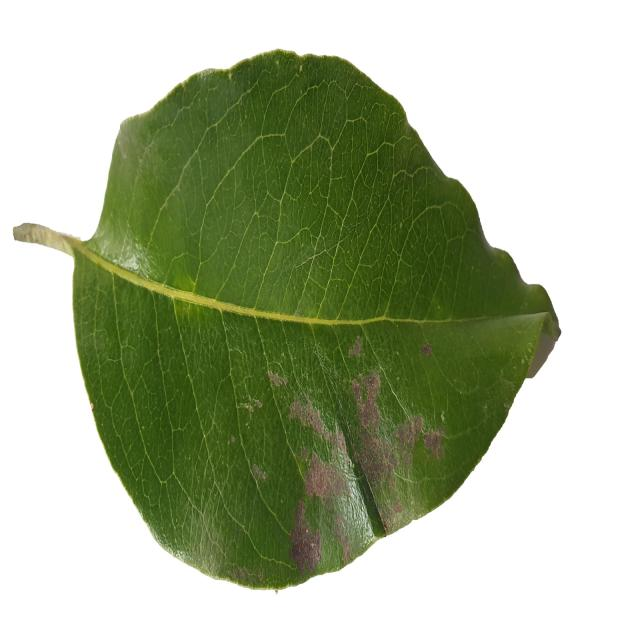Medicinal-Sandalwood: (17, 47, 561, 585)
